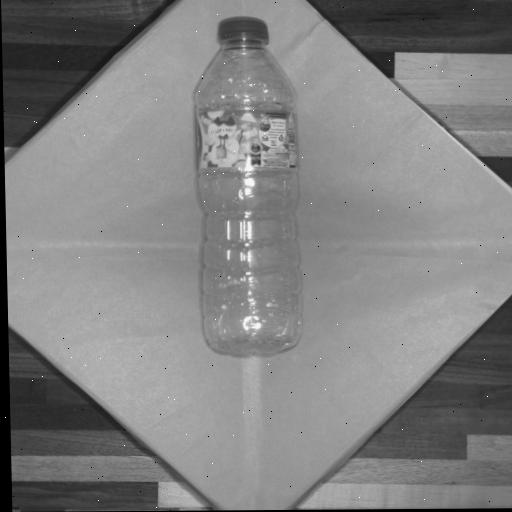bottle: (195, 20, 299, 353)
